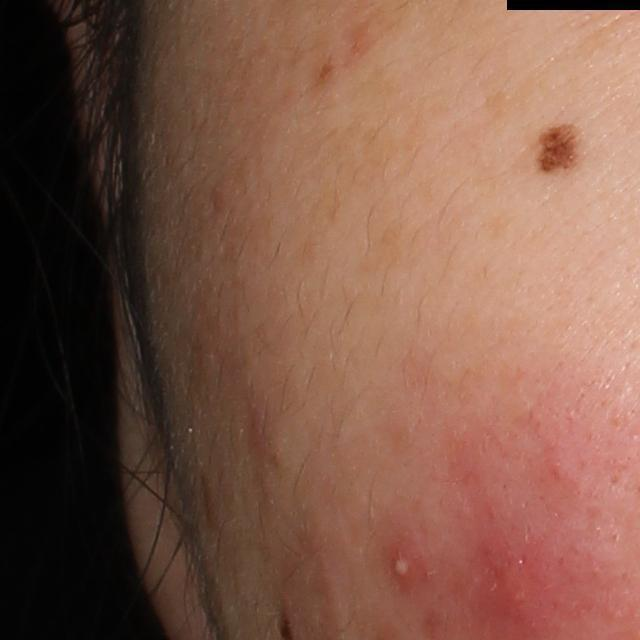nevus: (536, 122, 585, 175)
pustule: (383, 532, 436, 590)
